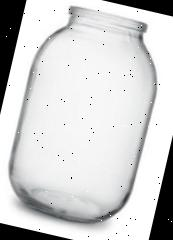glass: (0, 0, 172, 234)
